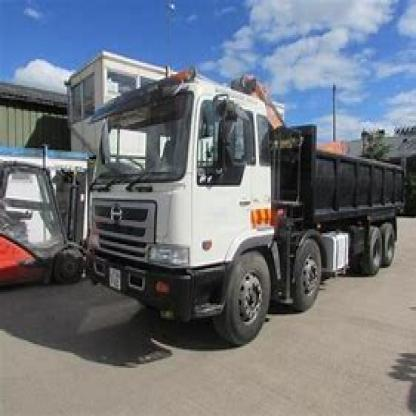dump_truck: (70, 64, 406, 361)
